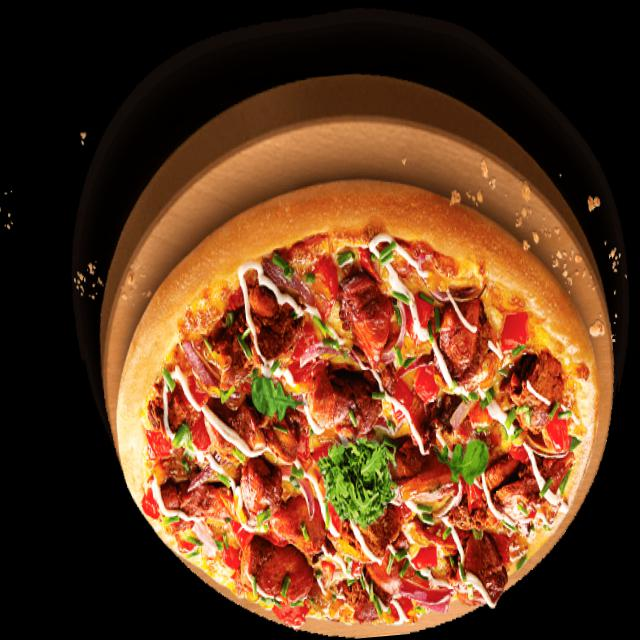pizza: (93, 156, 625, 639)
